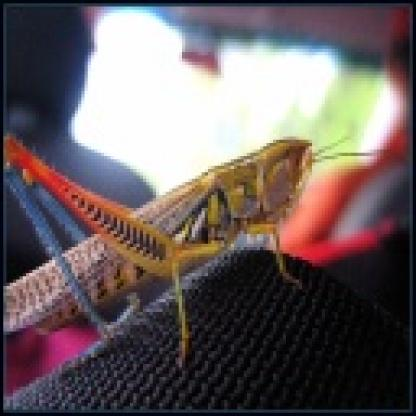grasshopper: (3, 122, 341, 355)
